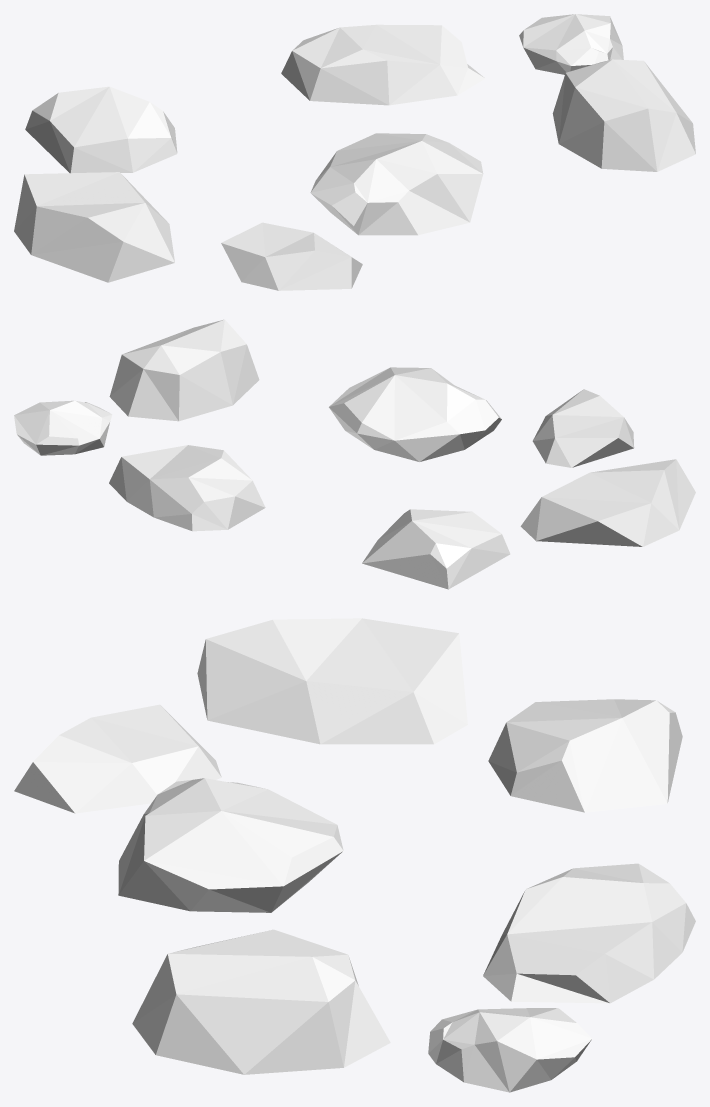
File: Env_Pebbles_01.glb
3 views of the same model, one above another, from view 1: azimuth 30°, elevation 25°; view 2: azimuth 150°, elevation 25°; view 3: azimuth 270°, elevation 25° (orthographic). The views are drawn at different scales.
Parts seen in each view (by area): view 1: Env_Pebbles_01; view 2: Env_Pebbles_01; view 3: Env_Pebbles_01.
Boxes of the visible parts, x1,y1,x2,y2 form: Env_Pebbles_01: [14, 14, 695, 290]; Env_Pebbles_01: [14, 319, 695, 589]; Env_Pebbles_01: [14, 618, 695, 1092].
Bounding box in the file's own units: 0.6469 × 0.0557 × 0.4251.
Materials: 1 (1 with a texture image).
